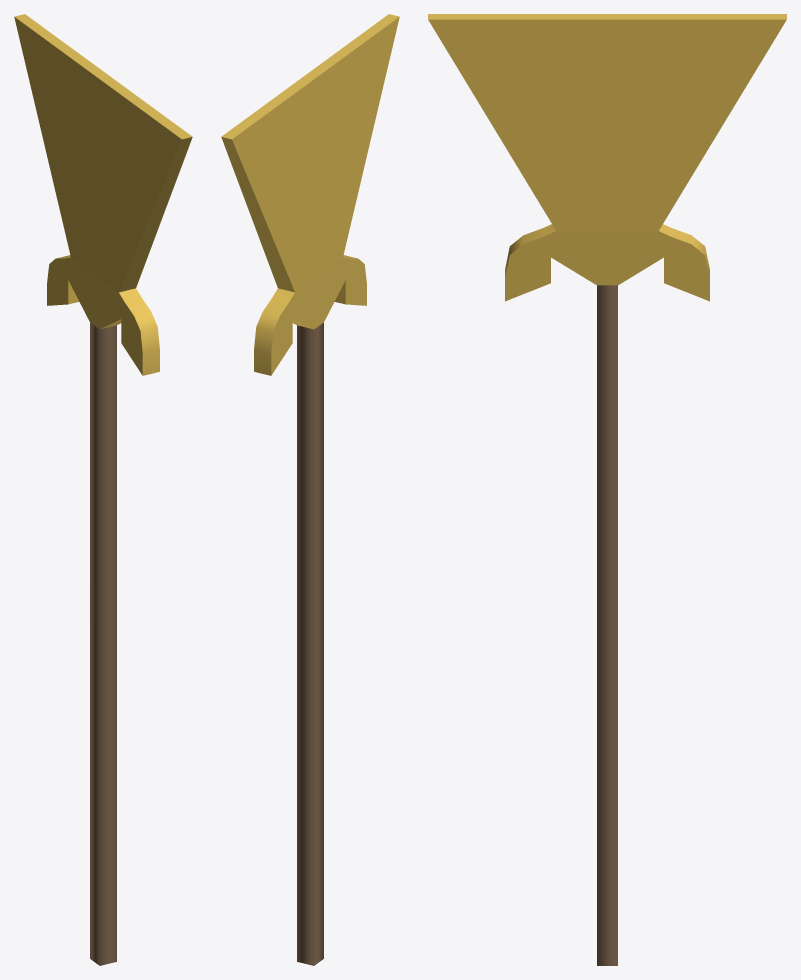
The model's file is egy_fan2.fbx.
3 renders of one model, left to right at view 1: azimuth 30°, elevation 25°; view 2: azimuth 150°, elevation 25°; view 3: azimuth 270°, elevation 25°, orthographic. The views are drawn at different scales.
Parts seen in each view (by area): view 1: pCube58; view 2: pCube58; view 3: pCube58.
Part boxes in pixels (x1=…): pCube58: x1=14, y1=14, x2=192, y2=965; pCube58: x1=221, y1=14, x2=399, y2=965; pCube58: x1=428, y1=14, x2=786, y2=965.
Bounding box in the file's own units: 0.0556 × 2.72 × 0.9366.
